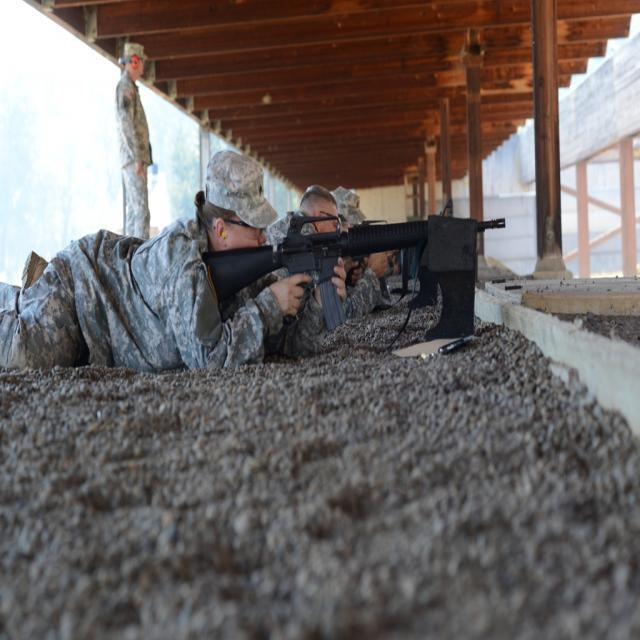weapon: (202, 200, 506, 340)
